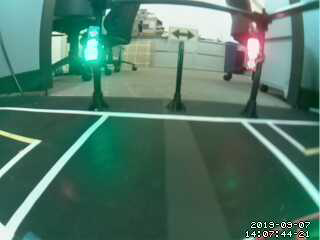Left_Right_sign: (165, 23, 202, 46)
Traffic_light_green: (84, 28, 105, 65)
Traffic_light_red: (244, 31, 265, 70)
